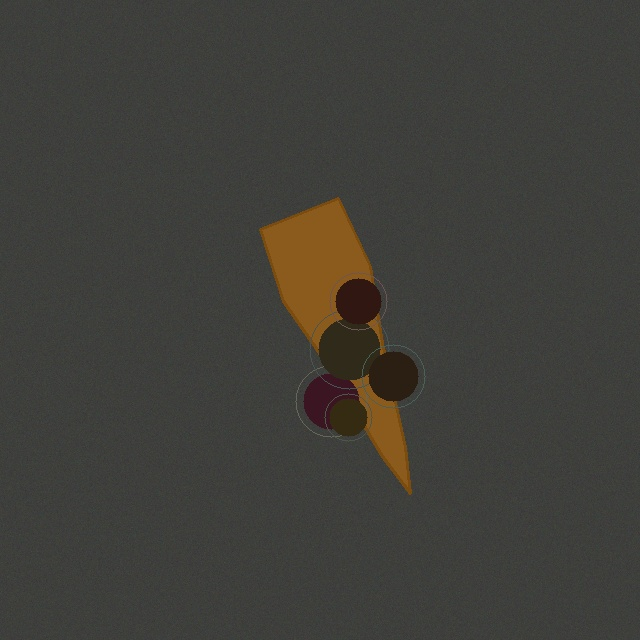Rotten_Carrot: (252, 190, 418, 501)
